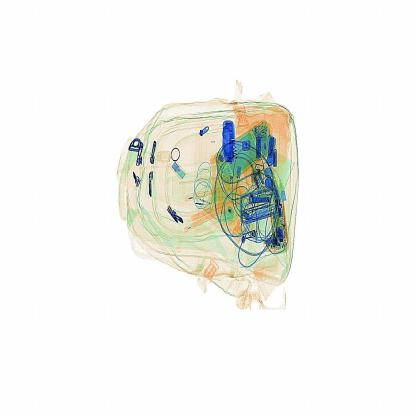scissors: (216, 105, 241, 163)
